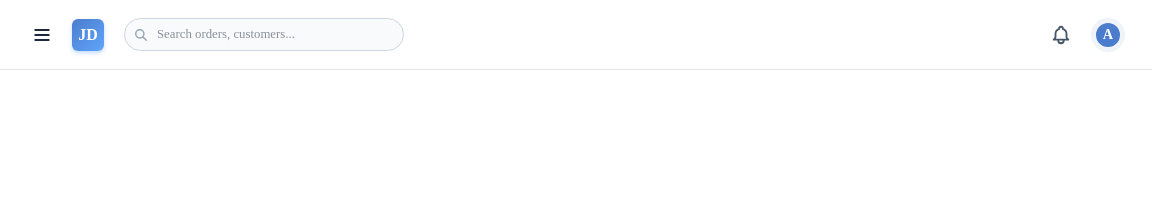
Test case: Navbar W-3702 Notification Bell & Tab Tests › should toggle notification card dropdown when bell button is clicked
The width and height of the screenshot is (1152, 213).
Click the button with test id "notification-bell-btn". click: (1061, 34)
box: [1042, 16, 1080, 54]
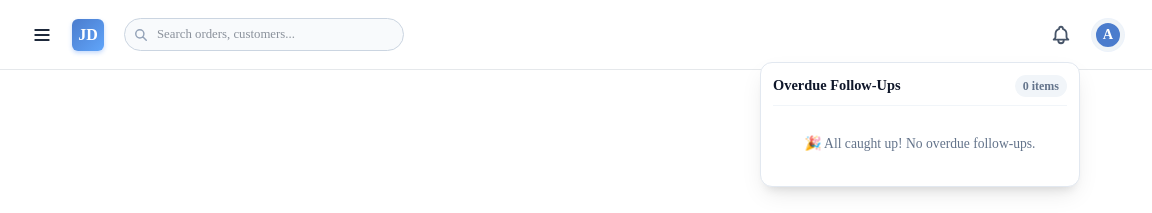
Result: the element with test id "notification-dropdown-menu" is shown at [760, 62, 1080, 187]
